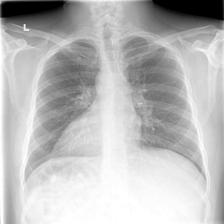normal: (18, 32, 214, 187)
